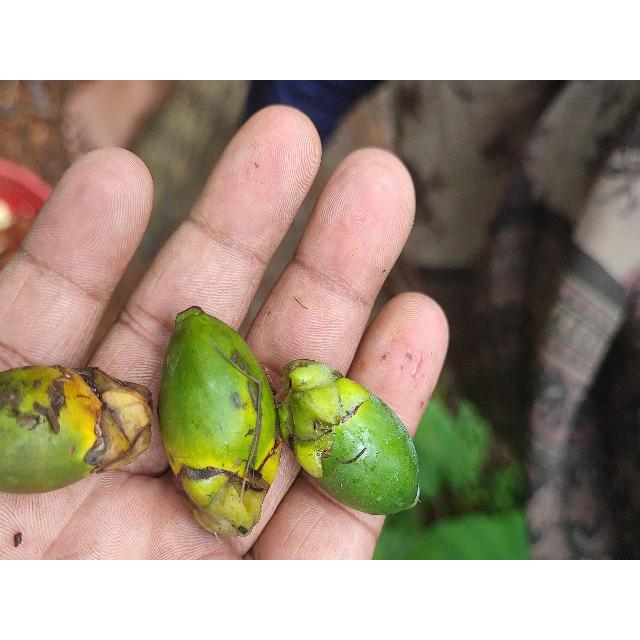damaged: (157, 308, 281, 541), (0, 366, 168, 496), (285, 361, 419, 515)
